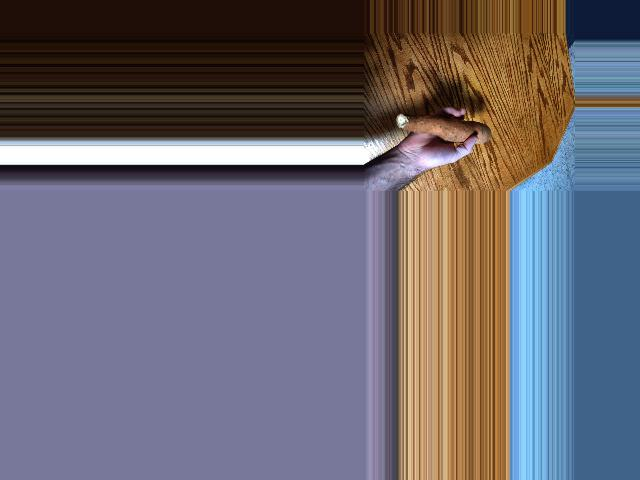sweet_potato: (398, 116, 489, 144)
